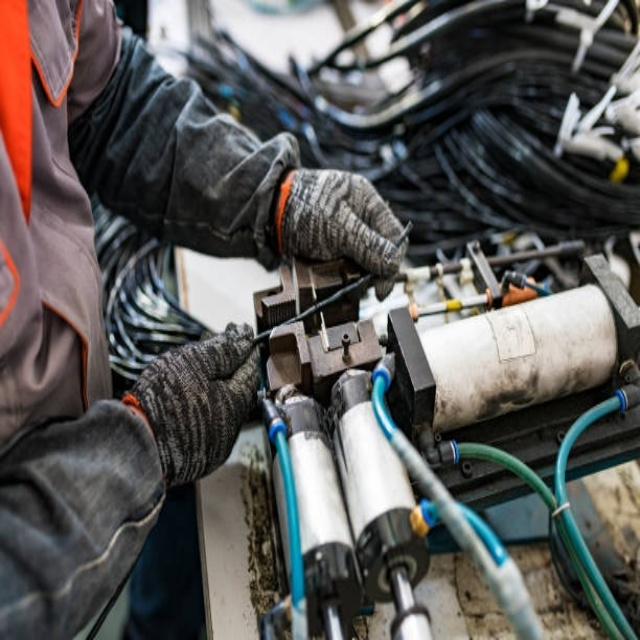Guantes: (120, 320, 261, 494), (279, 154, 418, 304)
